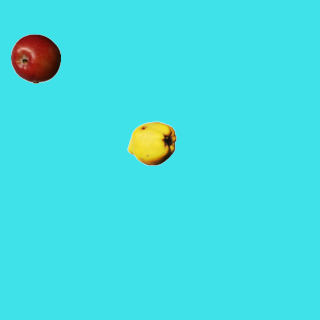Apple Braeburn: (10, 33, 60, 83)
Quince: (126, 118, 176, 168)
